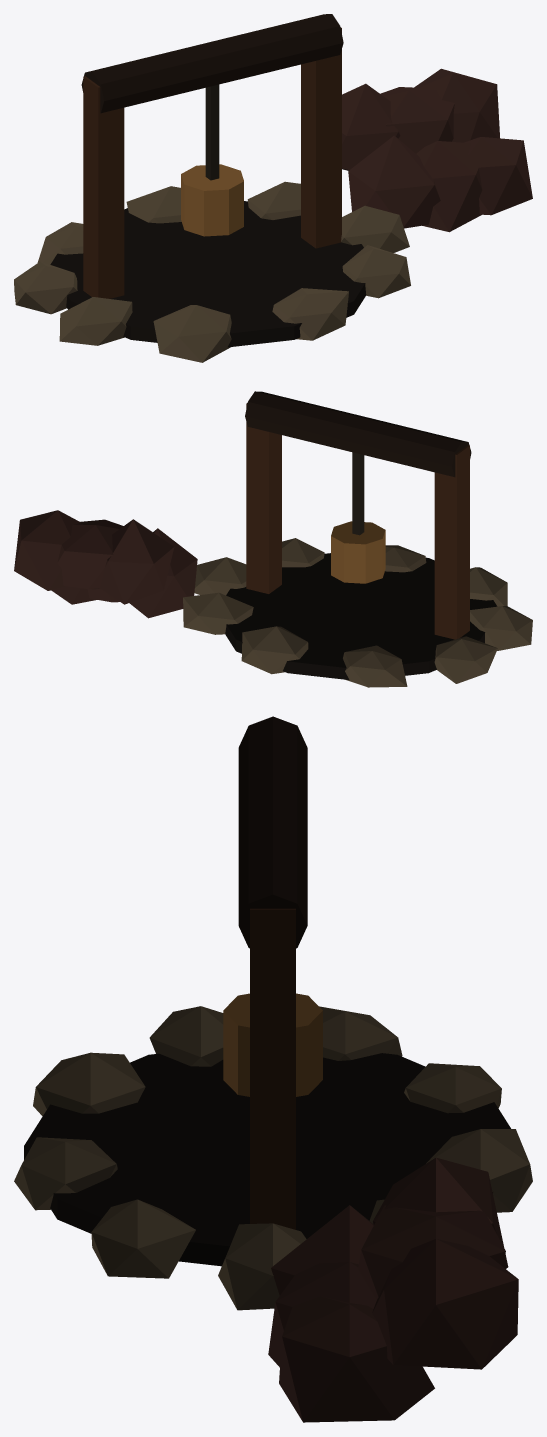
Rendered from ore_pit.obj.
3 renders of one model, top to bottom at view 1: azimuth 30°, elevation 25°; view 2: azimuth 150°, elevation 25°; view 3: azimuth 270°, elevation 25°, orthographic. The views are drawn at different scales.
Visible parts, largest first — view 1: core_iron, core_black, core_stone_dark, core_wood, core_wood_dark, core_plank, core_cloth_dark; view 2: core_black, core_stone_dark, core_iron, core_wood, core_wood_dark, core_plank, core_cloth_dark; view 3: core_iron, core_black, core_stone_dark, core_wood, core_wood_dark, core_plank.
Boxes of the visible parts, bbox=[...] form: core_iron: bbox=[342, 68, 532, 232]; core_black: bbox=[50, 201, 366, 347]; core_stone_dark: bbox=[14, 181, 410, 362]; core_wood: bbox=[83, 27, 341, 298]; core_wood_dark: bbox=[81, 14, 343, 113]; core_plank: bbox=[181, 164, 243, 236]; core_cloth_dark: bbox=[205, 84, 219, 180]; core_black: bbox=[225, 553, 497, 679]; core_stone_dark: bbox=[183, 538, 532, 687]; core_iron: bbox=[14, 510, 197, 618]; core_wood: bbox=[246, 403, 469, 639]; core_wood_dark: bbox=[245, 391, 471, 477]; core_plank: bbox=[331, 521, 385, 583]; core_cloth_dark: bbox=[352, 452, 364, 535]; core_iron: bbox=[268, 1157, 518, 1422]; core_black: bbox=[24, 1053, 510, 1266]; core_stone_dark: bbox=[14, 1006, 532, 1310]; core_wood: bbox=[250, 908, 295, 1229]; core_wood_dark: bbox=[238, 716, 307, 948]; core_plank: bbox=[223, 993, 322, 1096].
Bounding box in the file's own units: 0.4728 × 0.2245 × 0.2708.
